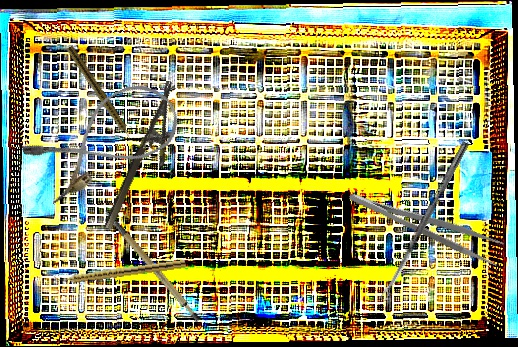Cannula: (19, 72, 188, 207)
Dressing Forceps: (345, 176, 508, 270)
Handpiece: (64, 45, 135, 143), (53, 256, 187, 287)
Needle Holder: (102, 80, 196, 239)
Scalpel Handle: (103, 196, 203, 333)
Surgical Spoon: (378, 140, 470, 302)
